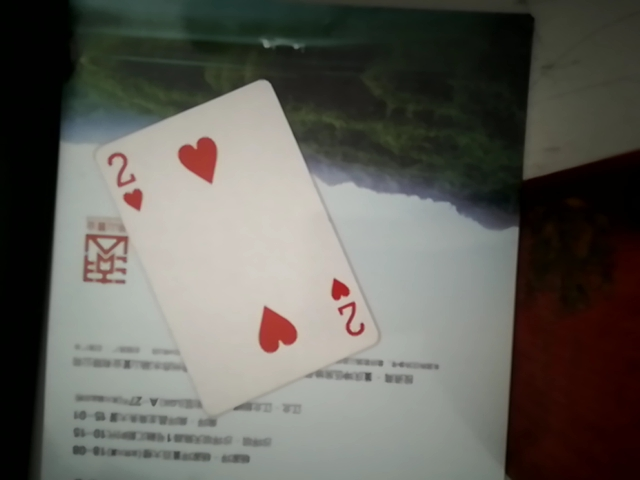hx 2: (66, 71, 373, 421)
